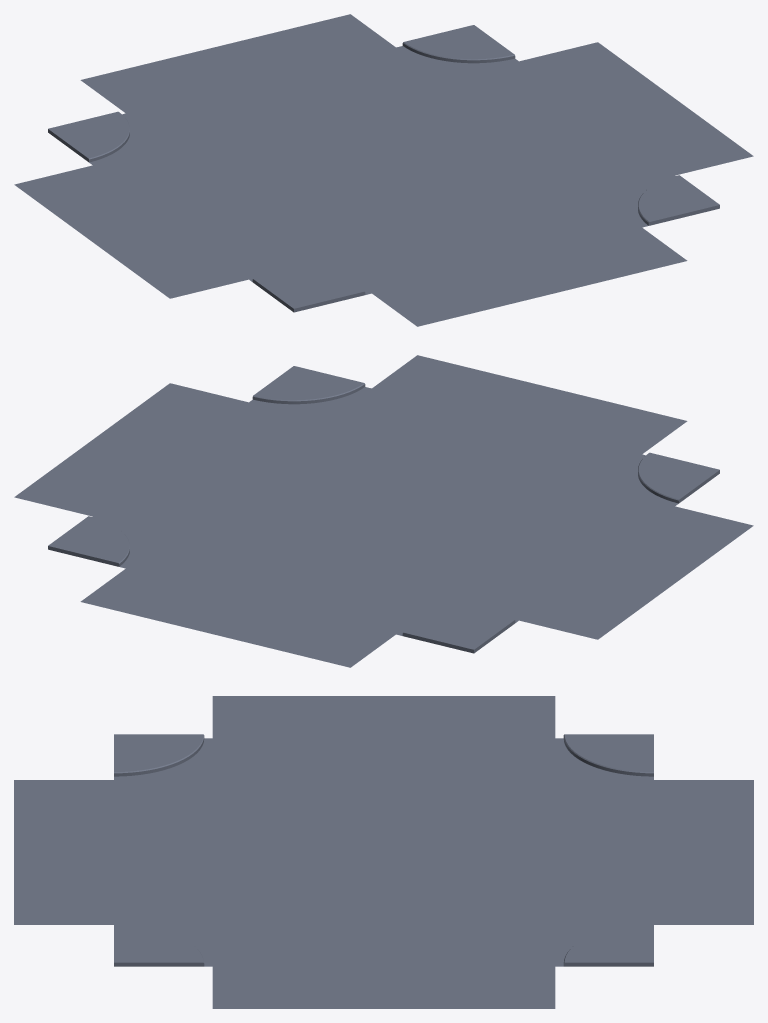
Rendered from env_block_street_4_way_intersection.glb.
The picture shows the model from 3 angles, top to bottom: view 1: azimuth 30°, elevation 25°; view 2: azimuth 150°, elevation 25°; view 3: azimuth 270°, elevation 25°; orthographic projection. The views are drawn at different scales.
Parts seen in each view (by area): view 1: Street_4WayIntersection.gltf; view 2: Street_4WayIntersection.gltf; view 3: Street_4WayIntersection.gltf.
Boxes of the visible parts, <box> form: Street_4WayIntersection.gltf: <box>14,14,753,326</box>; Street_4WayIntersection.gltf: <box>14,355,753,667</box>; Street_4WayIntersection.gltf: <box>14,696,753,1008</box>.
Size of the model in its own units: 24.67 by 0.15 by 24.67.
